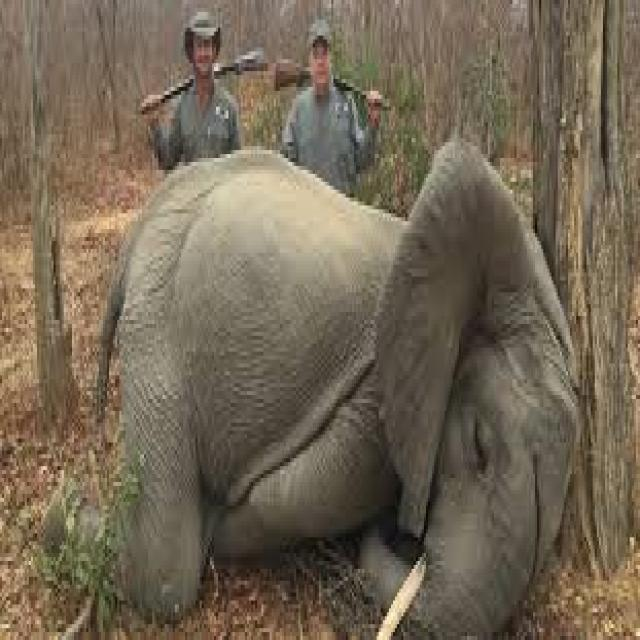Elephant: (87, 130, 582, 632)
